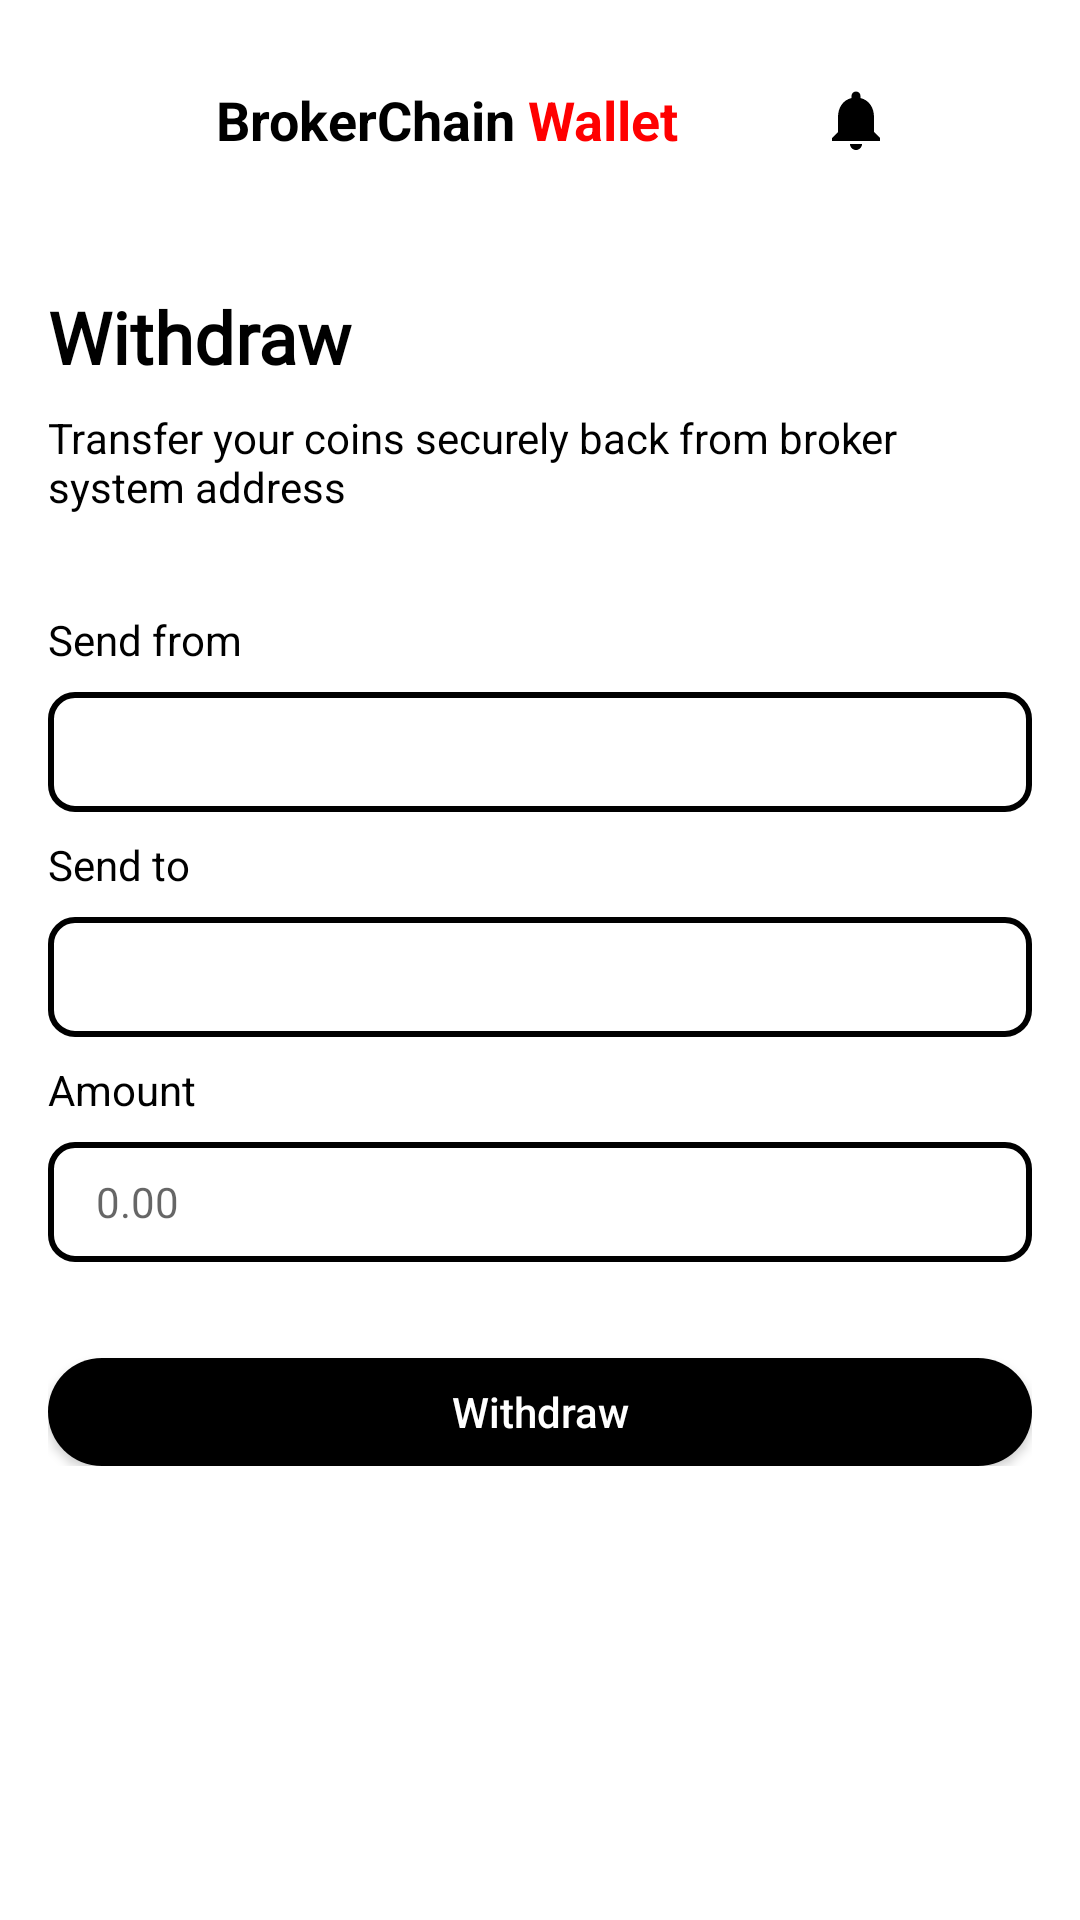

Screen size 1080*1920. Icon name, then its center in pixels as [x,y]:
Notifications: [856,120]
